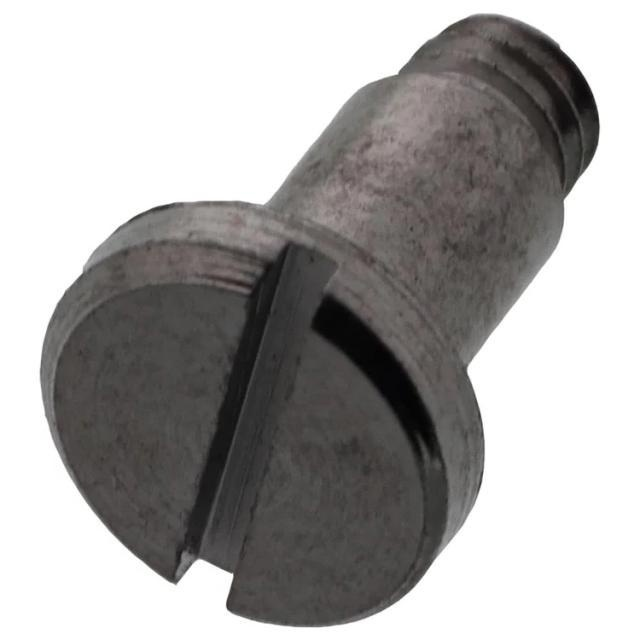duz: (38, 201, 489, 631)
